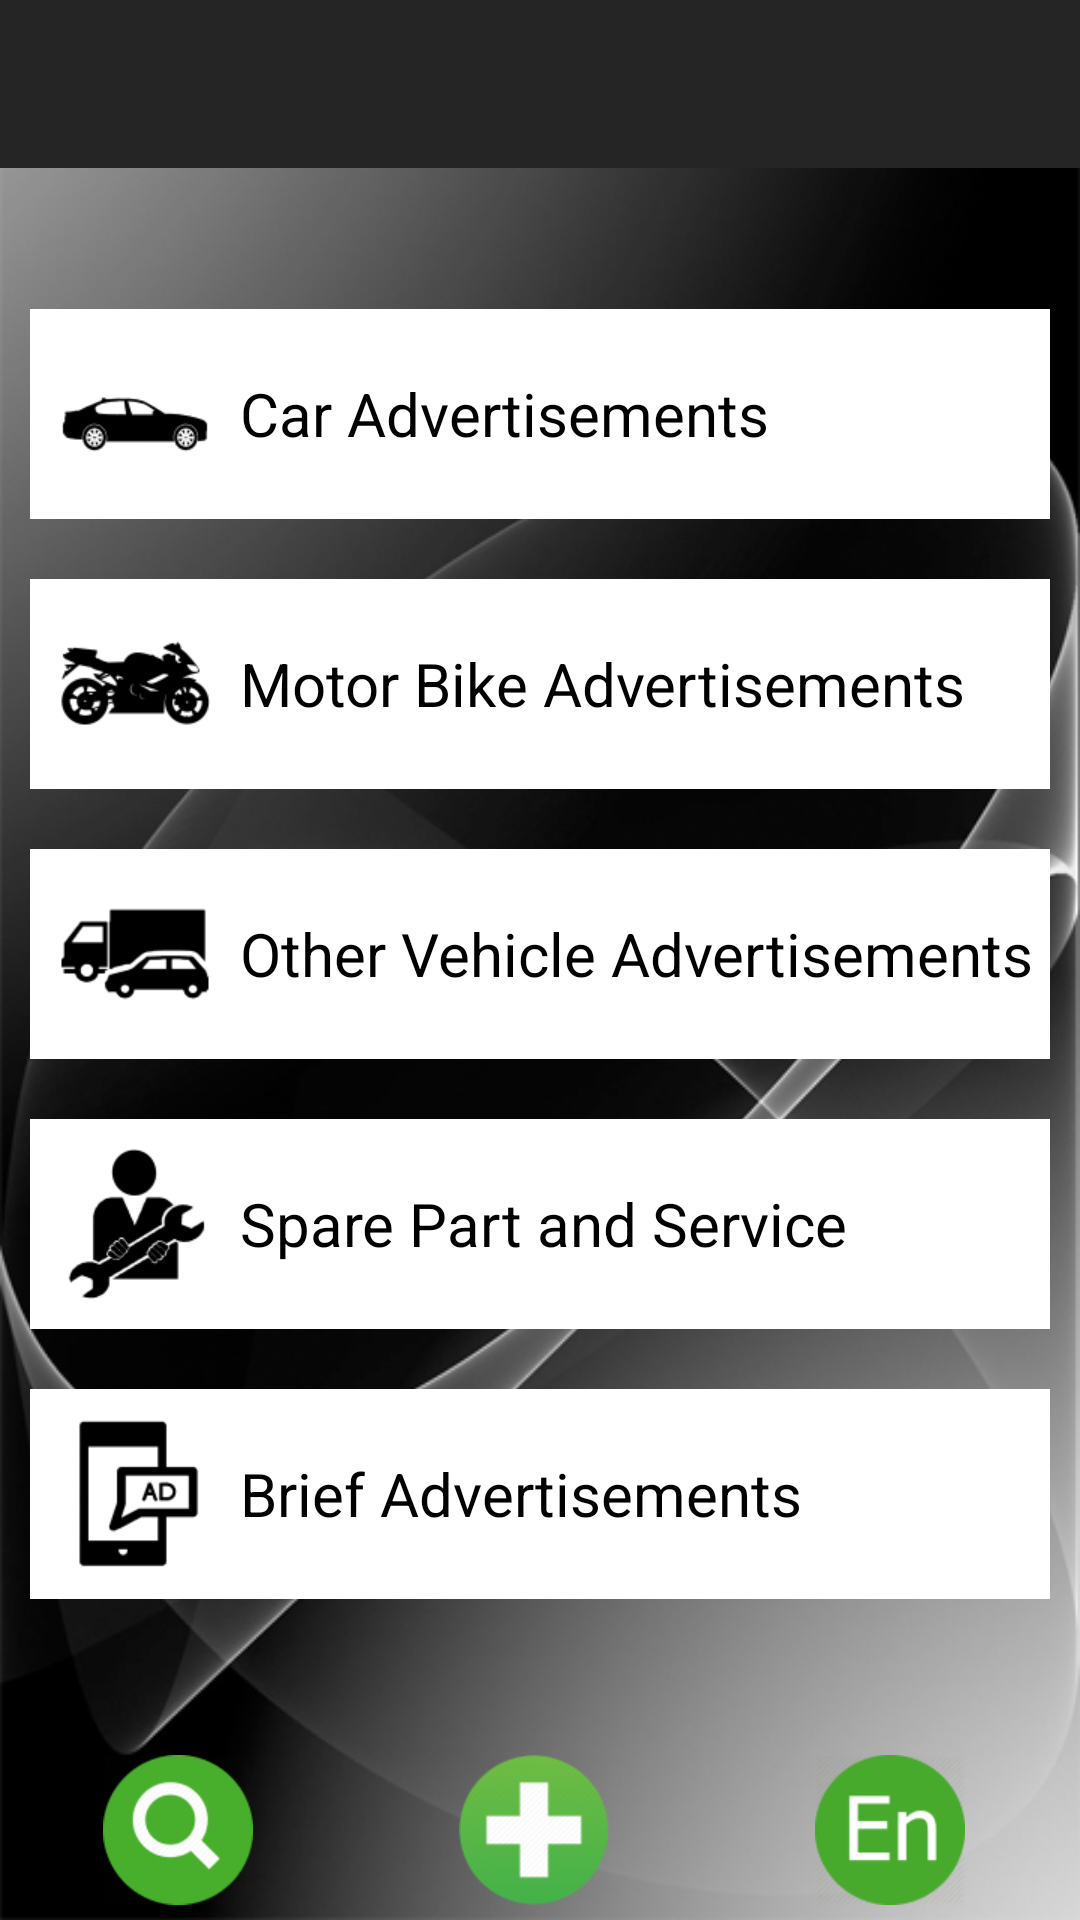

Icon click points for this 1080 x 1920 phone screenshot, format point (x, y):
search: point (178, 1830)
